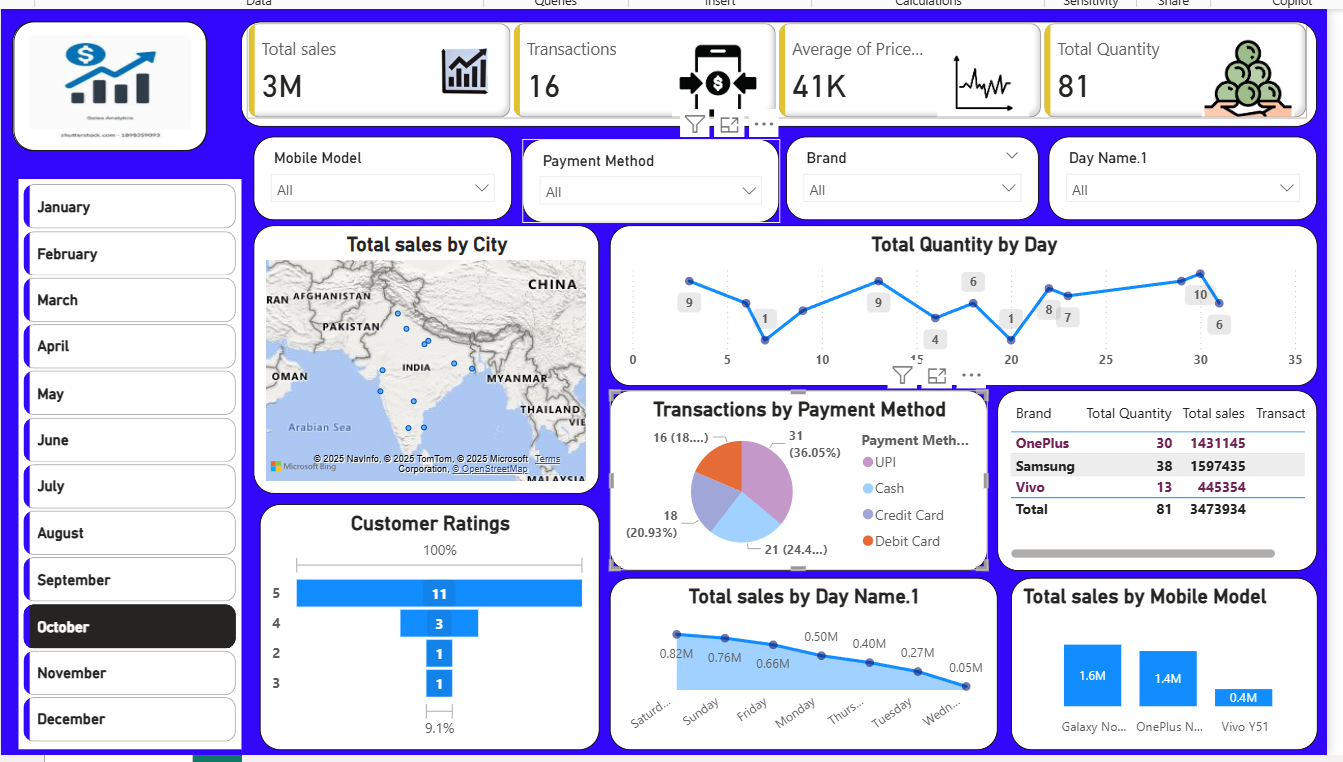

What the dashboard file says about the page in this screenshot:
{"tool":"powerbi","page":{"name":"Page 1","canvas":[1280,720],"ordinal":0},"visuals":[{"type":"shape","box":[5.5,6.9,120.8,148.2],"z":0},{"type":"image","box":[9.6,16.5,113.9,116.6],"z":1000},{"type":"shape","box":[6.9,156.4,119.4,554.4],"z":2000},{"type":"advancedSlicerVisual","fields":{"Values":["Sales_Data.Date.Variation.Date Hierarchy.Month"]},"box":[11,160.5,111.1,548.9],"z":3000},{"type":"cardVisual","fields":{"Data":["Sales_Data.Total Sales","Sales_Data.Total Quantity","Sales_Data.Transactions","Sales_Data.Average"]},"box":[134,5.6,1140.1,83.7],"z":4000},{"type":"map","fields":{"Category":["Sales_Data.City"],"Size":["Sales_Data.Total Sales"]},"box":[132.9,160.8,384.1,393.1],"z":5000},{"type":"lineChart","fields":{"Y":["Sales_Data.Total Quantity"],"Category":["Sales_Data.Date.Variation.Date Hierarchy.Month","Sales_Data.Date.Variation.Date Hierarchy.Day"]},"box":[525.9,160.8,744.8,178.7],"z":6000},{"type":"clusteredBarChart","fields":{"Category":["Sales_Data.Mobile Model"],"Y":["Sales_Data.Total Sales"]},"box":[528.3,558.5,310.1,160.5],"z":7000},{"type":"pieChart","fields":{"Category":["Sales_Data.Payment Method"],"Y":["Sales_Data.Transactions"]},"box":[842.5,344.4,428.1,209.9],"z":8000},{"type":"funnel","title":"Customer Ratings","fields":{"Category":["Sales_Data.Customer Ratings"],"Y":["Sum(Sales_Data.Customer Ratings)"]},"box":[529.7,344.4,304.6,209.9],"z":9000},{"type":"areaChart","fields":{"Category":["Sales_Data.Day Name"],"Y":["Sales_Data.Total Sales"]},"box":[845.3,557.1,428.1,159.2],"z":10000},{"type":"tableEx","fields":{"Values":["Sales_Data.Brand","Sales_Data.Total Sales","Sales_Data.Total Quantity","Sales_Data.Transactions"]},"box":[135.8,557.1,384.2,159.2],"z":11000},{"type":"slicer","fields":{"Values":["Sales_Data.Mobile Model"]},"box":[136.2,87.1,281.4,70.3],"z":12000},{"type":"slicer","fields":{"Values":["Sales_Data.Payment Method"]},"box":[421,87.1,281.4,69.2],"z":13000},{"type":"slicer","fields":{"Values":["Sales_Data.Brand"]},"box":[703.5,87.1,281.4,69.2],"z":14000},{"type":"slicer","fields":{"Values":["Sales_Data.Day Name"]},"box":[988.2,87.1,281.4,69.2],"z":15000}]}

Visuals, with their boxes on the page's 1280x720 design canvas (x1, y1, x2, y2). These are canvas units, not pixel positions in the 1343x762 screenshot, which may show the page scaled, cropped or inside an application window:
shape: {"left": 6, "top": 7, "right": 126, "bottom": 155}
image: {"left": 10, "top": 16, "right": 124, "bottom": 133}
shape: {"left": 7, "top": 156, "right": 126, "bottom": 711}
advancedSlicerVisual - Sales_Data.Date.Variation.Date Hierarchy.Month: {"left": 11, "top": 160, "right": 122, "bottom": 709}
cardVisual - Sales_Data.Total Sales x Sales_Data.Total Quantity: {"left": 134, "top": 6, "right": 1274, "bottom": 89}
map - Sales_Data.City x Sales_Data.Total Sales: {"left": 133, "top": 161, "right": 517, "bottom": 554}
lineChart - Sales_Data.Total Quantity x Sales_Data.Date.Variation.Date Hierarchy.Month: {"left": 526, "top": 161, "right": 1271, "bottom": 340}
clusteredBarChart - Sales_Data.Mobile Model x Sales_Data.Total Sales: {"left": 528, "top": 558, "right": 838, "bottom": 719}
pieChart - Sales_Data.Payment Method x Sales_Data.Transactions: {"left": 842, "top": 344, "right": 1271, "bottom": 554}
"Customer Ratings" funnel: {"left": 530, "top": 344, "right": 834, "bottom": 554}
areaChart - Sales_Data.Day Name x Sales_Data.Total Sales: {"left": 845, "top": 557, "right": 1273, "bottom": 716}
tableEx - Sales_Data.Brand x Sales_Data.Total Sales: {"left": 136, "top": 557, "right": 520, "bottom": 716}
slicer - Sales_Data.Mobile Model: {"left": 136, "top": 87, "right": 418, "bottom": 157}
slicer - Sales_Data.Payment Method: {"left": 421, "top": 87, "right": 702, "bottom": 156}
slicer - Sales_Data.Brand: {"left": 704, "top": 87, "right": 985, "bottom": 156}
slicer - Sales_Data.Day Name: {"left": 988, "top": 87, "right": 1270, "bottom": 156}
